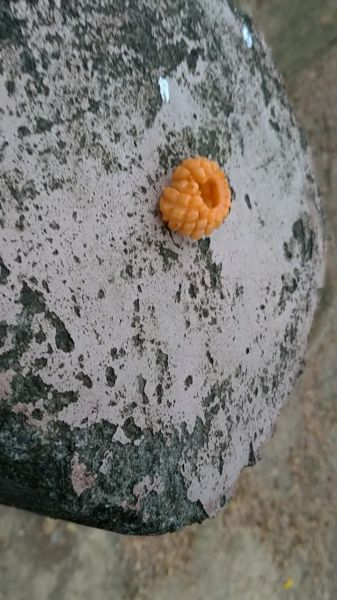eggs: (155, 150, 239, 240)
